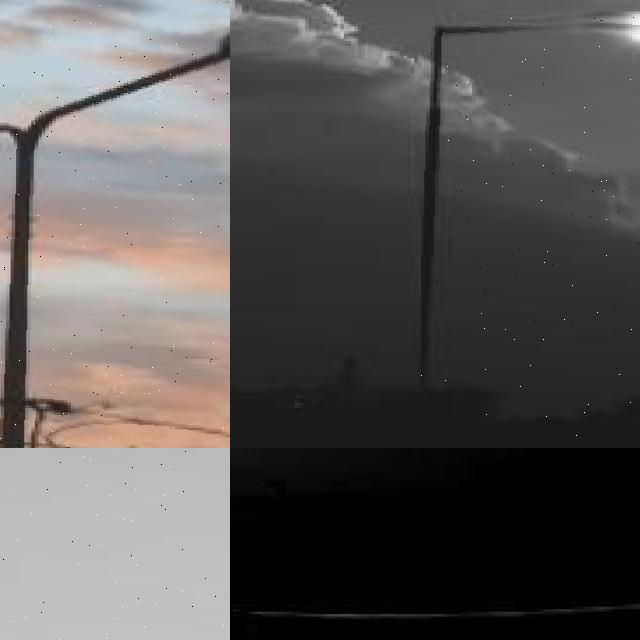street light: (0, 0, 230, 448), (420, 11, 640, 438), (0, 448, 230, 640), (269, 482, 286, 626)
